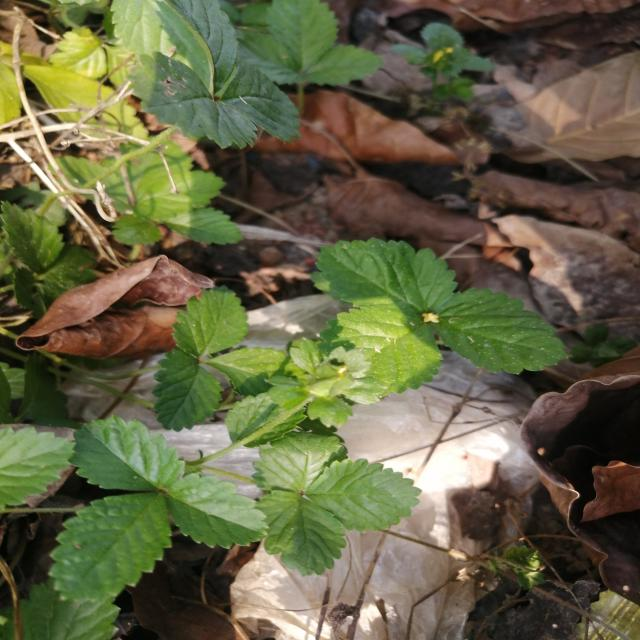Mock_strawberry: (231, 439, 414, 582)
